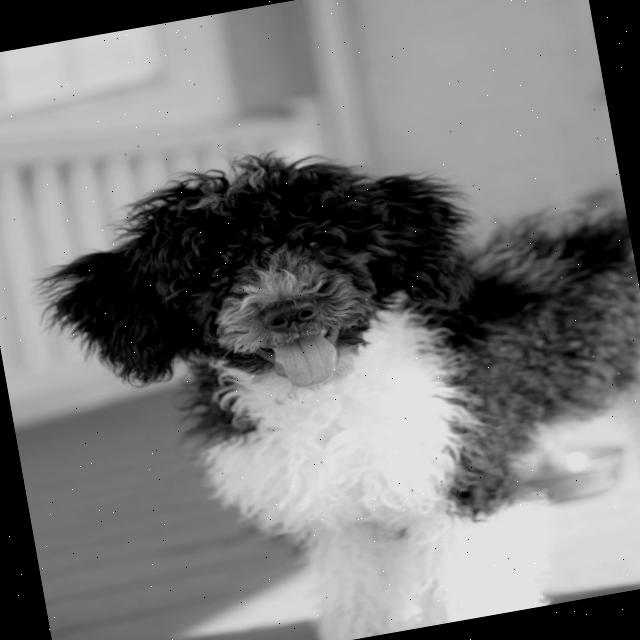Poodle_dog: (17, 111, 514, 452)
